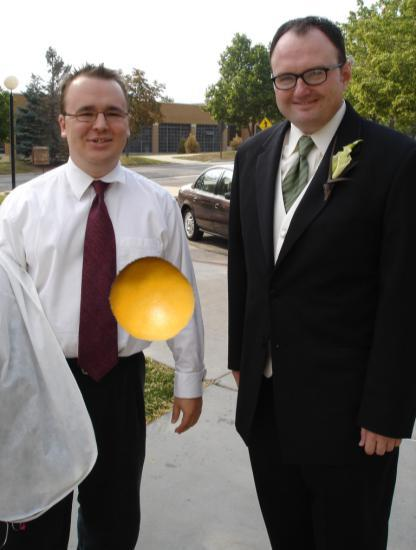Grapefruit: (108, 256, 197, 345)
